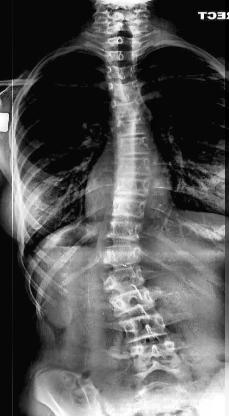Vertebrae: (119, 311, 172, 345), (130, 341, 182, 372), (109, 285, 158, 317), (102, 263, 146, 294), (104, 217, 144, 245), (107, 80, 145, 108), (108, 195, 150, 219), (103, 242, 144, 266), (114, 155, 154, 179), (112, 100, 148, 124), (113, 176, 154, 197), (116, 136, 152, 158), (115, 117, 149, 139), (104, 64, 140, 84), (104, 48, 140, 66)
